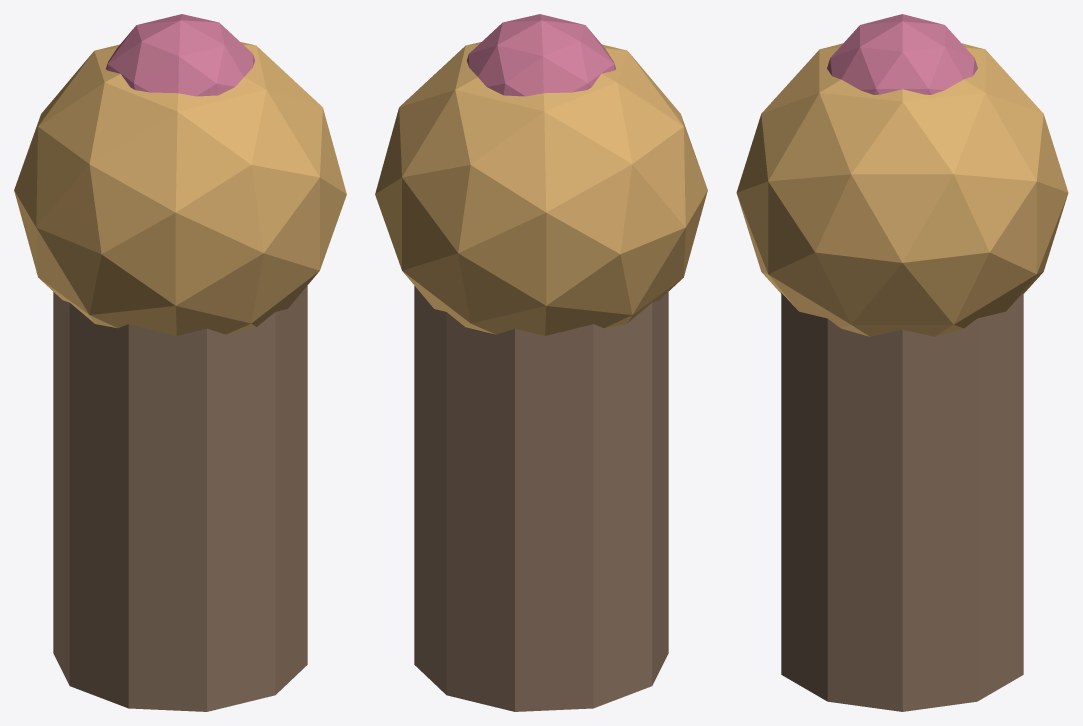
The model's file is antorcha.glb.
3 views of the same model, side by side, from view 1: azimuth 30°, elevation 25°; view 2: azimuth 150°, elevation 25°; view 3: azimuth 270°, elevation 25° (orthographic).
Parts seen in each view (by area): view 1: part_000, part_001, part_002; view 2: part_000, part_001, part_002; view 3: part_000, part_001, part_002.
Boxes of the visible parts, x1,y1,x2,y2 form: part_000: [53, 286, 307, 711]; part_001: [14, 42, 346, 335]; part_002: [106, 14, 254, 96]; part_000: [414, 286, 668, 711]; part_001: [375, 42, 707, 335]; part_002: [467, 14, 615, 96]; part_000: [781, 293, 1023, 711]; part_001: [736, 43, 1068, 336]; part_002: [827, 14, 977, 94].
Size of the model in its own units: 0.86 by 1.82 by 0.86.
